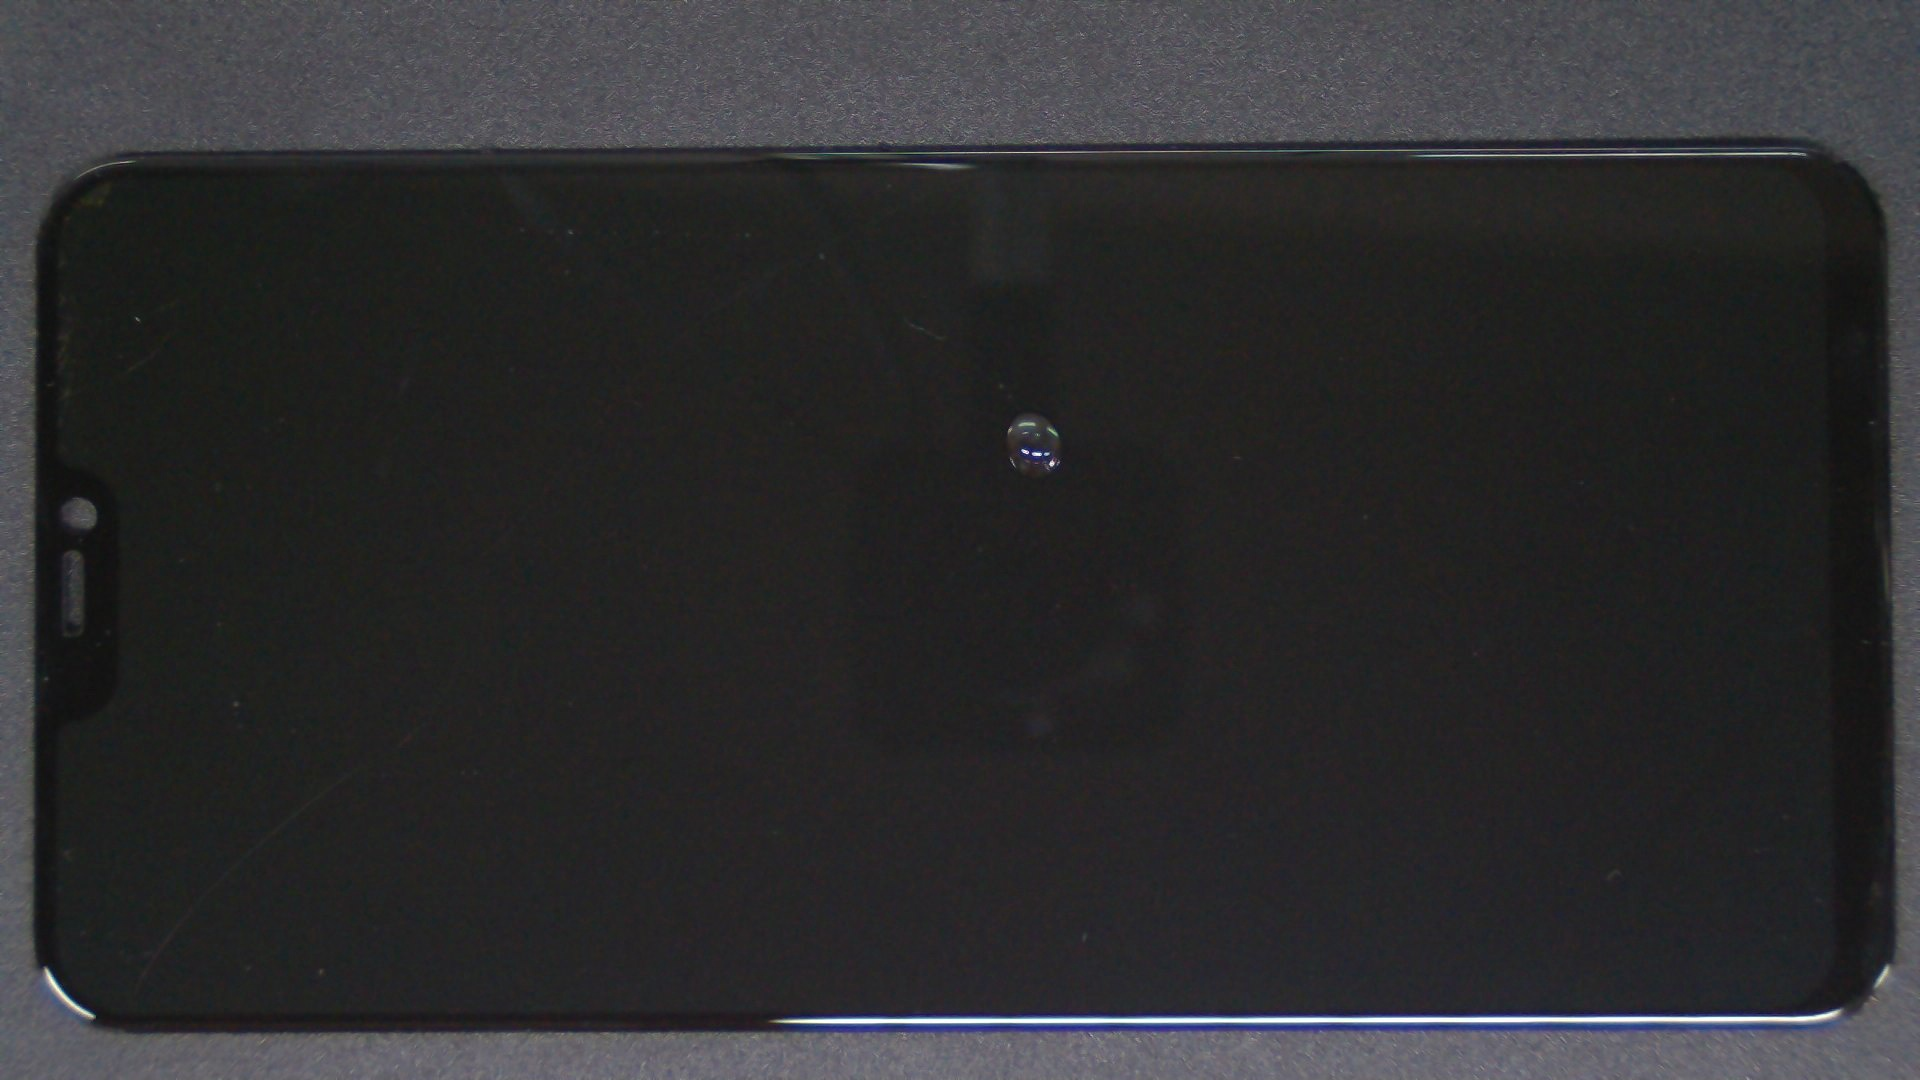oil: (514, 206, 1542, 618)
